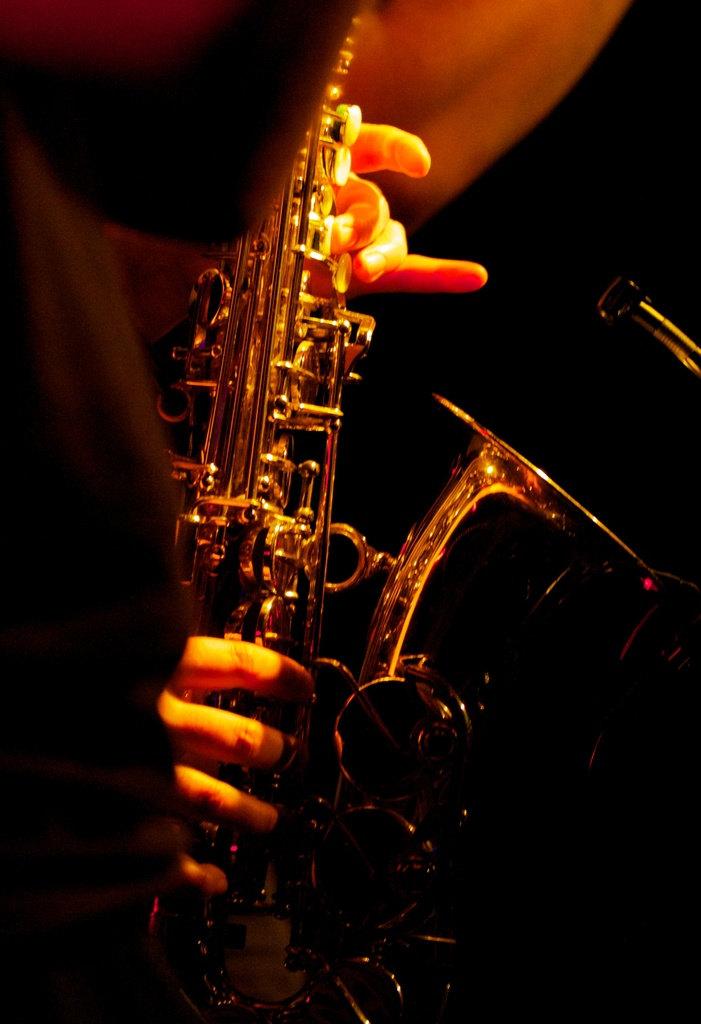Human_hand: (9, 632, 313, 929), (112, 122, 488, 341)
